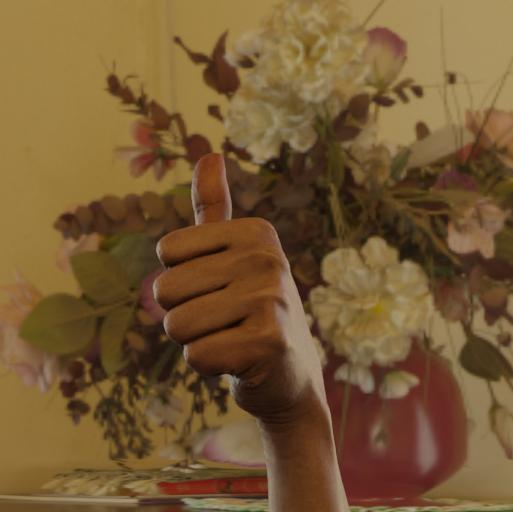thumbs-up: (155, 142, 327, 422)
